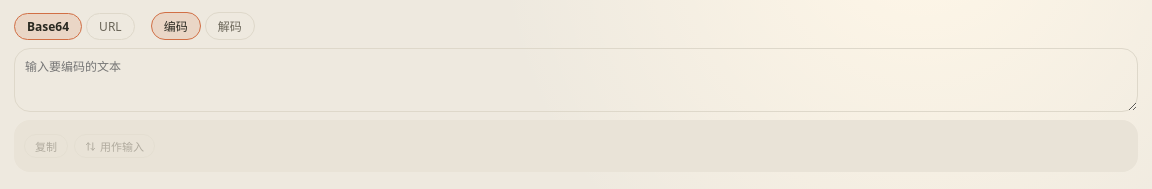
Test: ConverterPane 编码页 › 用作输入：输出回填并翻转方向
Type "hello" into the text box with placeholder "输入要编码的文本" at (576, 80), box left=14, top=48, right=1138, bottom=112
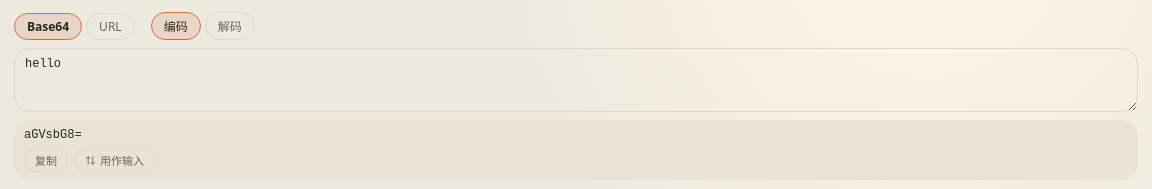
Click the button "用作输入" at (114, 160), box left=74, top=148, right=155, bottom=172
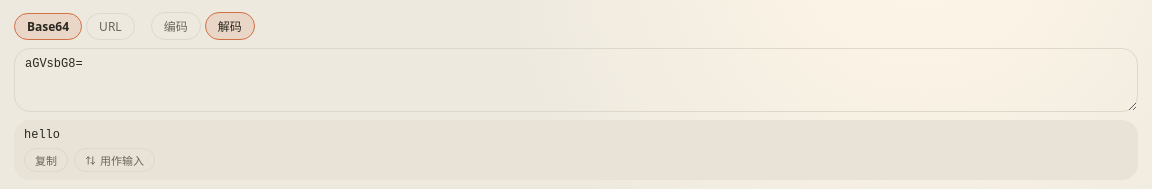
Expected: the text box with placeholder "输入要解码的文本" holds "aGVsbG8=", left=14, top=48, right=1138, bottom=112
Expected: the text "hello" is shown, left=24, top=128, right=60, bottom=142
